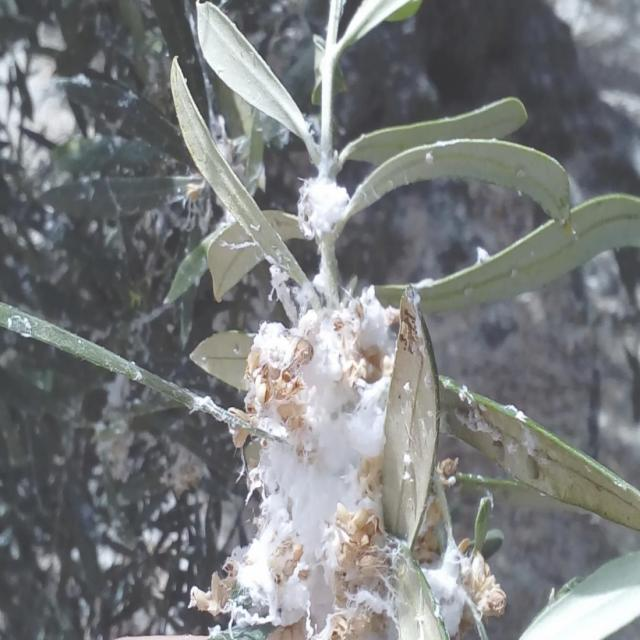Psyllid: (193, 289, 505, 639), (440, 377, 558, 494), (298, 158, 350, 251)
